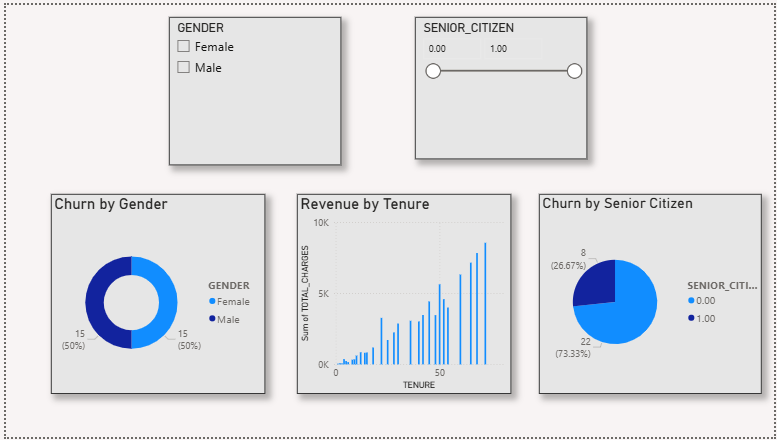

Layout of this report page (visuals, bound fields, positions):
{"tool":"powerbi","page":{"name":"Demographic Analysis","canvas":[1280,720],"ordinal":1},"visuals":[{"type":"donutChart","title":"Churn by Gender","fields":{"Category":["CUSTOMER_CHURN.GENDER"],"Y":["CountNonNull(CUSTOMER_CHURN.CHURN)"]},"box":[74.3,314.3,357.1,332.9],"z":0},{"type":"clusteredColumnChart","title":"Revenue by Tenure","fields":{"Category":["CUSTOMER_CHURN.TENURE"],"Y":["Sum(CUSTOMER_CHURN.TOTAL_CHARGES)"]},"box":[484.3,314.3,357.1,332.9],"z":1000},{"type":"pieChart","title":"Churn by Senior Citizen","fields":{"Category":["CUSTOMER_CHURN.SENIOR_CITIZEN"],"Y":["CountNonNull(CUSTOMER_CHURN.CHURN)"]},"box":[888.6,314.3,371.4,332.9],"z":2000},{"type":"slicer","fields":{"Values":["CUSTOMER_CHURN.GENDER"]},"box":[271.4,20,287.1,247.1],"z":3000},{"type":"slicer","fields":{"Values":["CUSTOMER_CHURN.SENIOR_CITIZEN"]},"box":[681.4,20,287.1,237.1],"z":4000}]}

Visuals, with their boxes in screenshot pixels (x1, y1, x2, y2), scaled from the page's 1280x720 canvas onto the 777x440 screenshot:
"Churn by Gender" donutChart: BBox(45, 192, 262, 396)
"Revenue by Tenure" clusteredColumnChart: BBox(294, 192, 511, 396)
"Churn by Senior Citizen" pieChart: BBox(539, 192, 765, 396)
slicer - CUSTOMER_CHURN.GENDER: BBox(165, 12, 339, 163)
slicer - CUSTOMER_CHURN.SENIOR_CITIZEN: BBox(414, 12, 588, 157)
